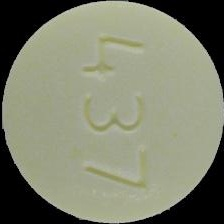70786-0437: (0, 0, 224, 224)
